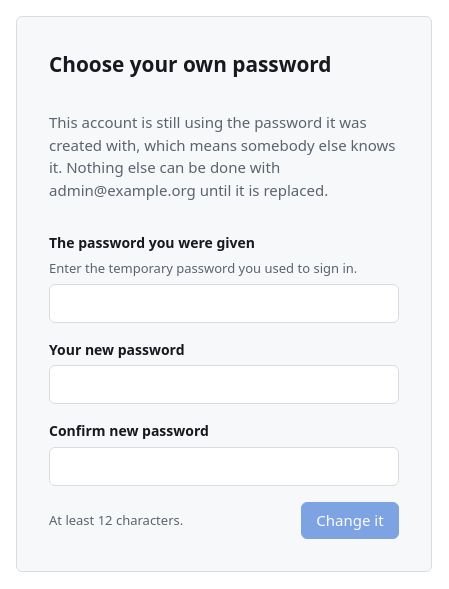
Test: an account still on the password it was given › says the change ends this session, because it does
In the password field labelled "The password you were given": x=224, y=303 [49,284,399,323], type "given-one"
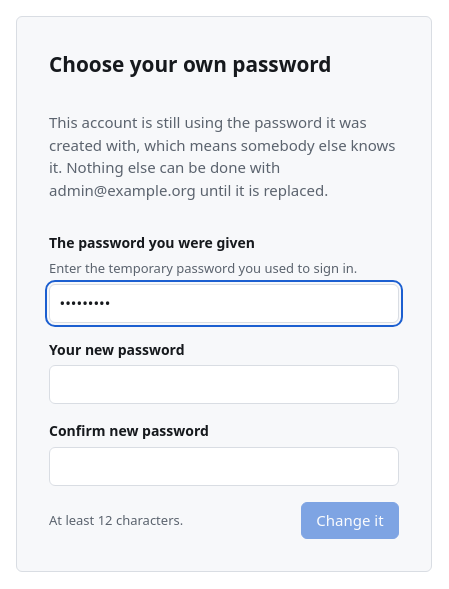
In the password field labelled "Your new password": x=224, y=385 [49,365,399,404], type "one-they-chose-12"
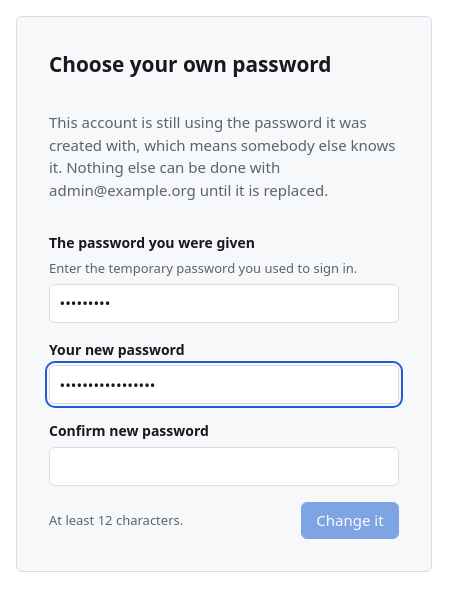
In the password field labelled "Confirm new password": x=224, y=466 [49,447,399,486], type "one-they-chose-12"
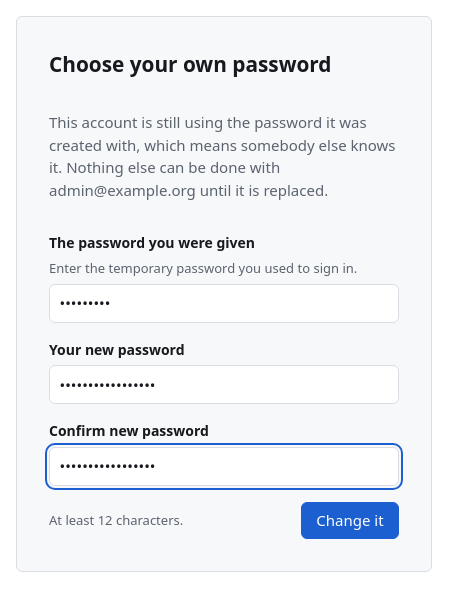
Click the button "Change it": x=350, y=520 [301,502,399,539]
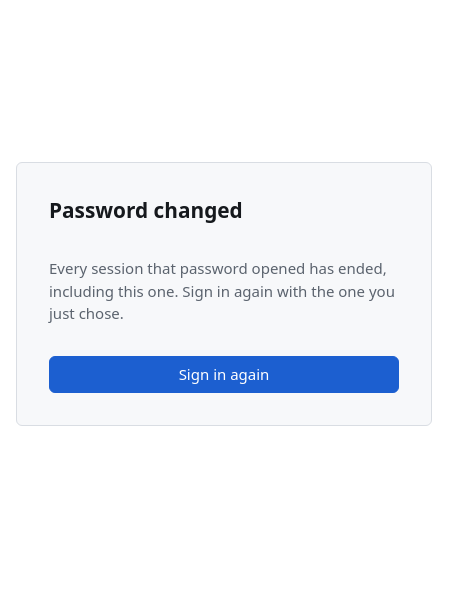
expect the heading "Password changed" is shown: met, box [49,196,243,224]
expect the text "including this one" is shown: met, box [49,258,395,323]
